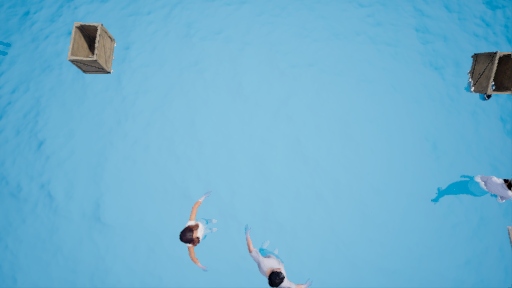person: (243, 227, 314, 288), (173, 192, 224, 267), (433, 168, 512, 209)
